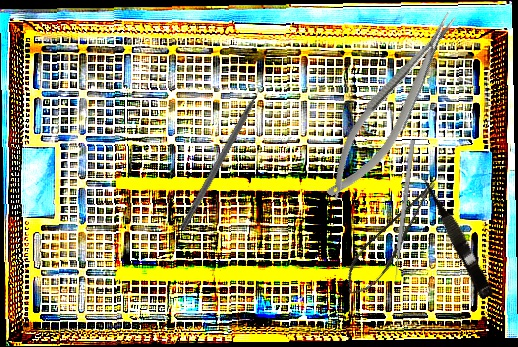Hook Surgical: (178, 73, 272, 232)
Micro Scissor: (333, 177, 455, 303), (416, 169, 498, 301)
Needle Holder: (311, 5, 476, 209)
Pusher: (391, 139, 416, 288)
